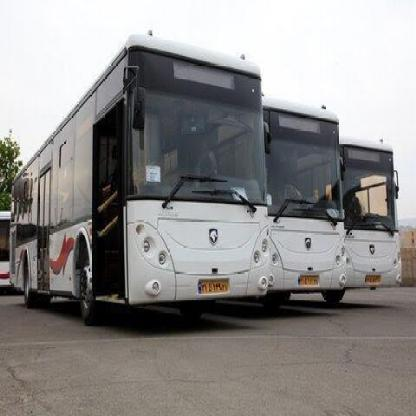Bus: (3, 26, 272, 321), (262, 96, 346, 310), (335, 136, 401, 297)
